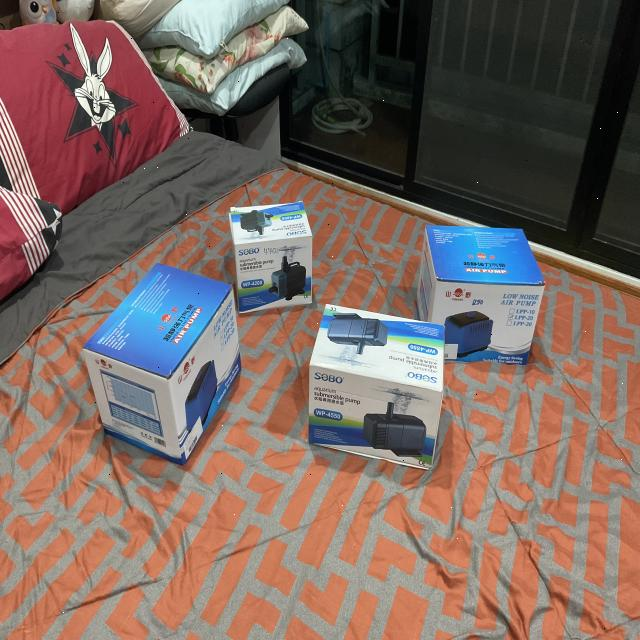SOBO_WP_4200: (302, 298, 456, 482), (226, 192, 320, 318)
YAMANO_LPP_20: (78, 253, 251, 467), (412, 208, 551, 372)
